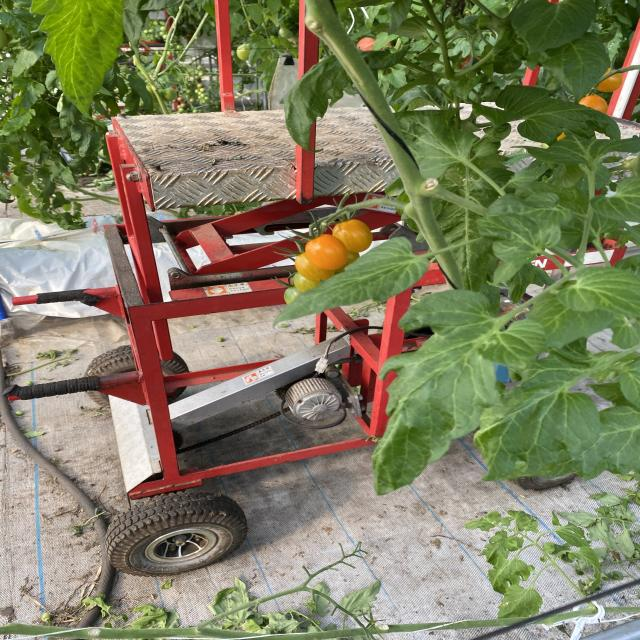c-half-riped: (332, 220, 373, 252), (295, 252, 334, 282), (597, 68, 624, 92), (293, 272, 321, 292), (579, 94, 607, 113), (284, 286, 304, 304)
c-riped: (306, 234, 350, 270)
